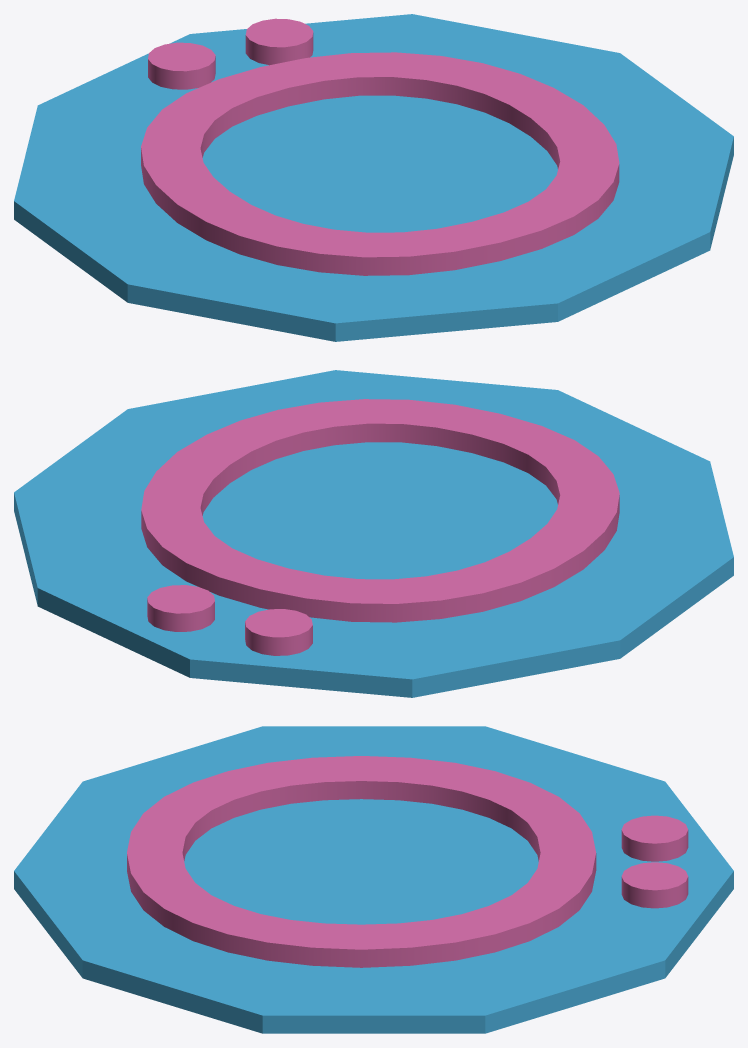
The model's file is pad2.obj.
3 renders of one model, top to bottom at view 1: azimuth 30°, elevation 25°; view 2: azimuth 150°, elevation 25°; view 3: azimuth 270°, elevation 25°, orthographic. The views are drawn at different scales.
Parts seen in each view (by area): view 1: Mesh4 Model, Mesh1 _1 Model, Mesh2 _1 Model, Mesh3 _1 Model; view 2: Mesh4 Model, Mesh1 _1 Model, Mesh2 _1 Model, Mesh3 _1 Model; view 3: Mesh4 Model, Mesh1 _1 Model, Mesh2 _1 Model, Mesh3 _1 Model.
Part boxes in pixels (x1,y1,x2,y2): Mesh4 Model: (14, 14, 733, 341); Mesh1 _1 Model: (141, 52, 619, 275); Mesh2 _1 Model: (148, 42, 215, 89); Mesh3 _1 Model: (245, 18, 313, 65); Mesh4 Model: (14, 370, 733, 697); Mesh1 _1 Model: (141, 399, 619, 622); Mesh2 _1 Model: (245, 609, 312, 655); Mesh3 _1 Model: (147, 585, 214, 631); Mesh4 Model: (14, 726, 733, 1033); Mesh1 _1 Model: (127, 756, 596, 967); Mesh2 _1 Model: (621, 815, 688, 861); Mesh3 _1 Model: (621, 862, 688, 908).
Bounding box in the file's own units: 0.2739 × 0.016 × 0.288.
Materials: 2 (2 with a texture image).
